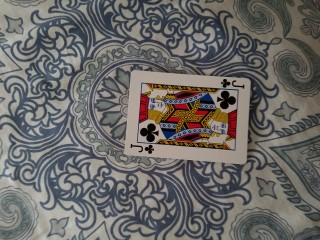JackOfClubs: (123, 70, 252, 165)
